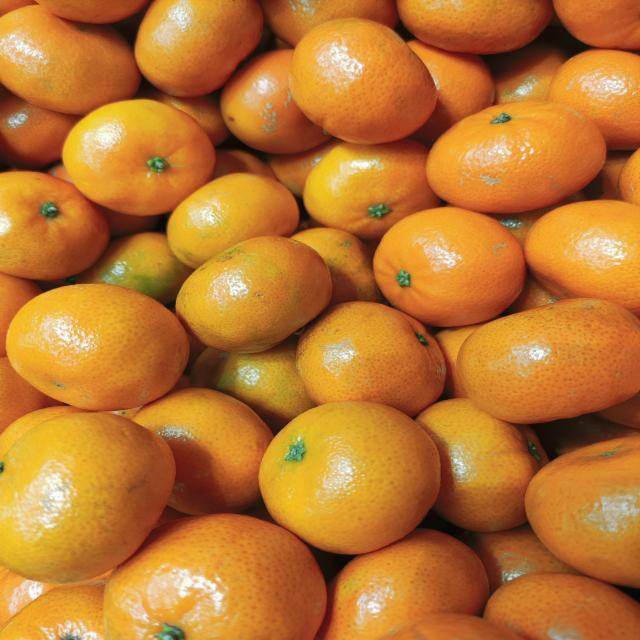tangerine: (0, 405, 177, 583), (257, 400, 441, 554), (104, 514, 327, 639), (456, 298, 640, 424), (7, 284, 189, 411), (425, 99, 609, 214), (314, 528, 489, 639), (288, 18, 436, 145), (130, 387, 274, 516), (175, 236, 332, 353), (372, 208, 526, 327), (414, 398, 550, 532), (62, 100, 217, 216), (296, 301, 445, 419), (524, 437, 640, 588), (0, 5, 141, 116), (302, 138, 441, 240), (523, 200, 640, 321), (189, 333, 318, 436), (167, 173, 299, 269), (135, 0, 265, 97), (220, 49, 334, 155), (0, 172, 109, 280), (482, 570, 640, 640), (404, 40, 495, 149), (545, 48, 640, 151), (76, 231, 195, 307), (396, 0, 554, 54), (289, 229, 386, 309), (258, 0, 400, 48), (553, 0, 640, 51)
